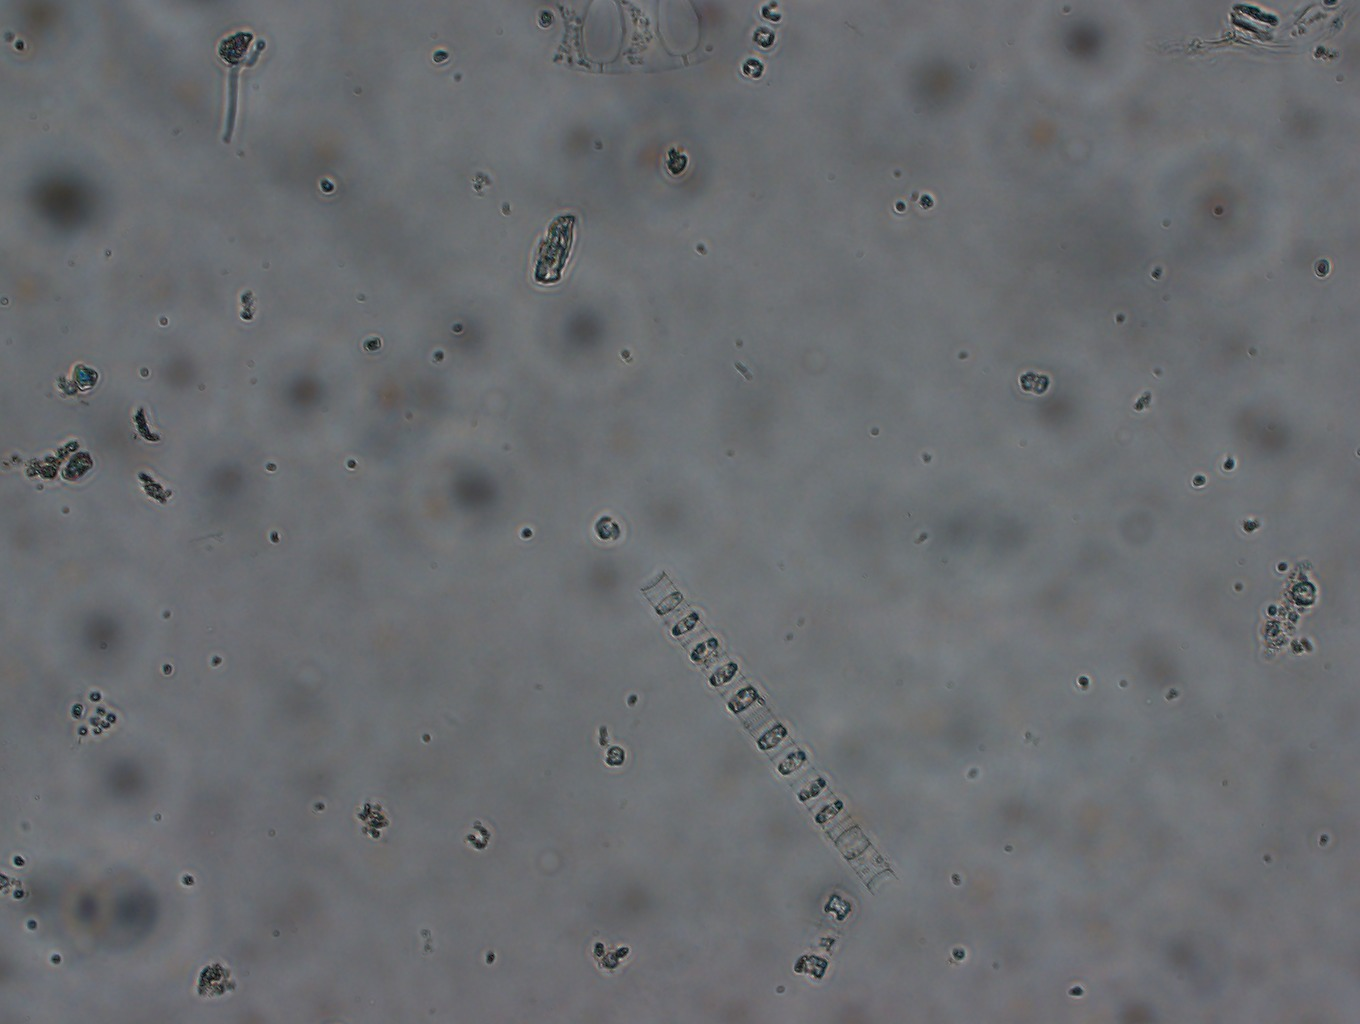skeletonema: (633, 568, 897, 904)
